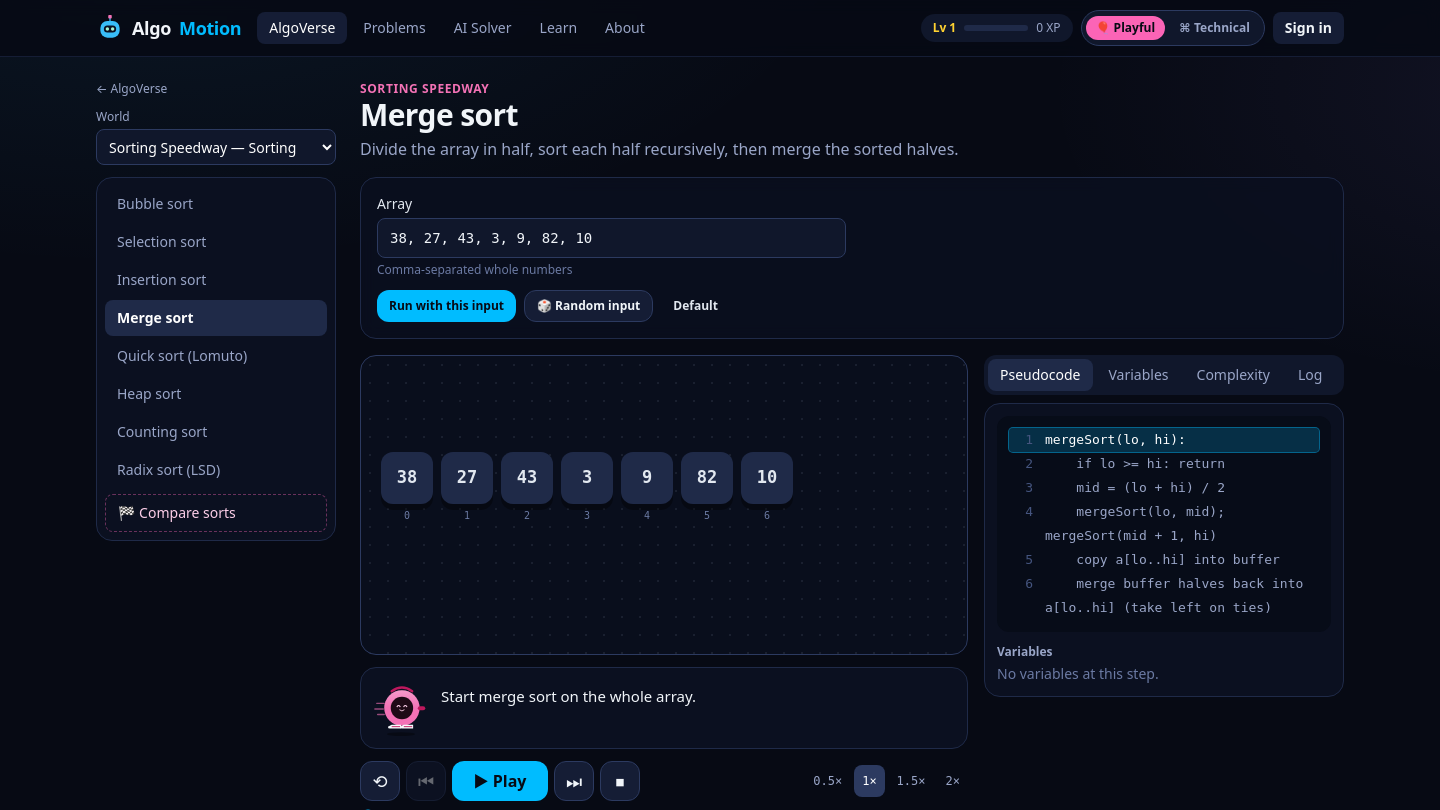
Test: navigation › opens a world and switches algorithms
The width and height of the screenshot is (1440, 810).
Check: the heading "Merge sort" is shown, box [360, 94, 518, 135]
Click the button "Quick sort (Lomuto)": (216, 356) [105, 338, 327, 374]
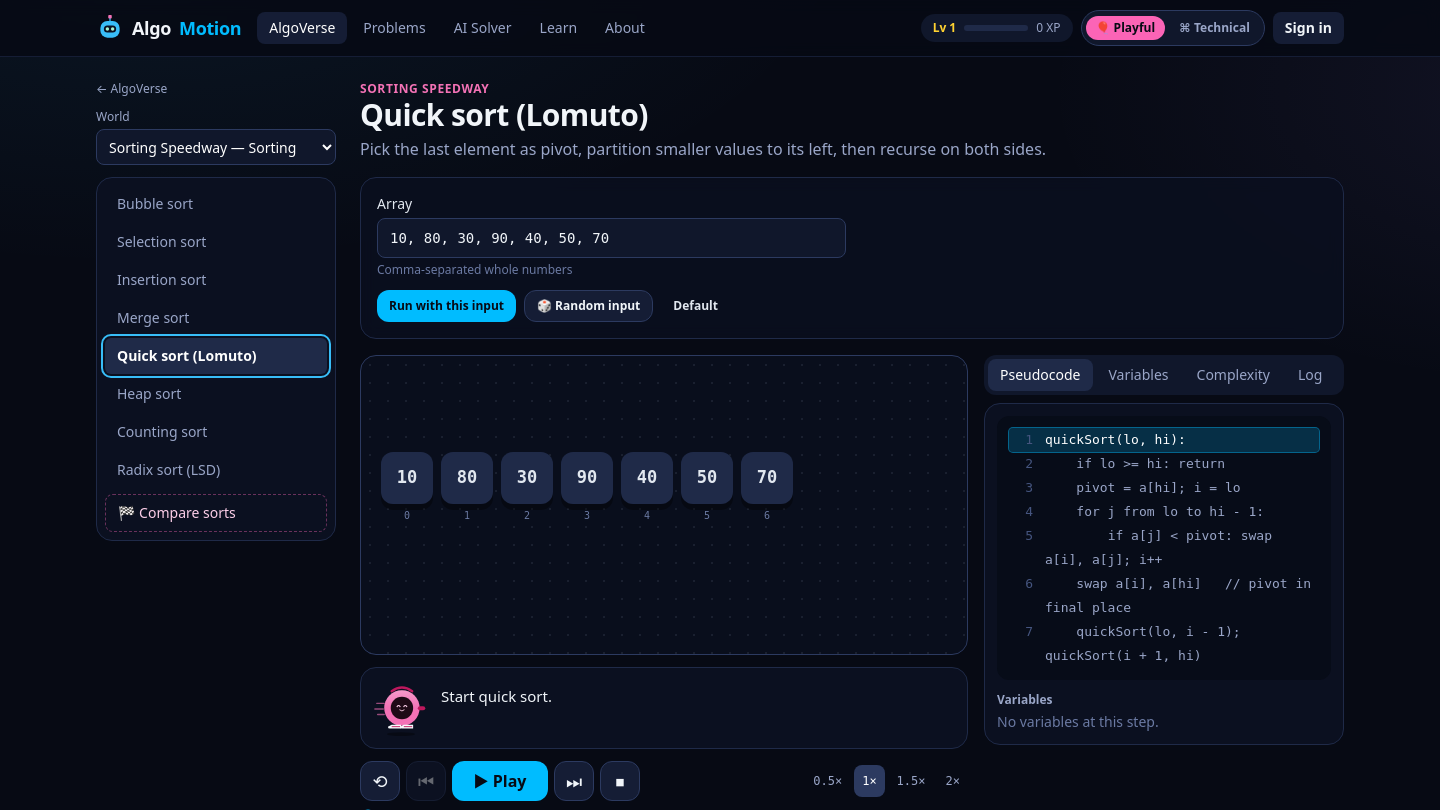
Check: the heading "Quick sort (Lomuto)" is shown, box [360, 94, 648, 135]
